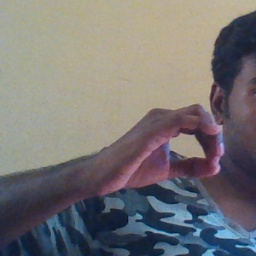O: (99, 100, 231, 195)
